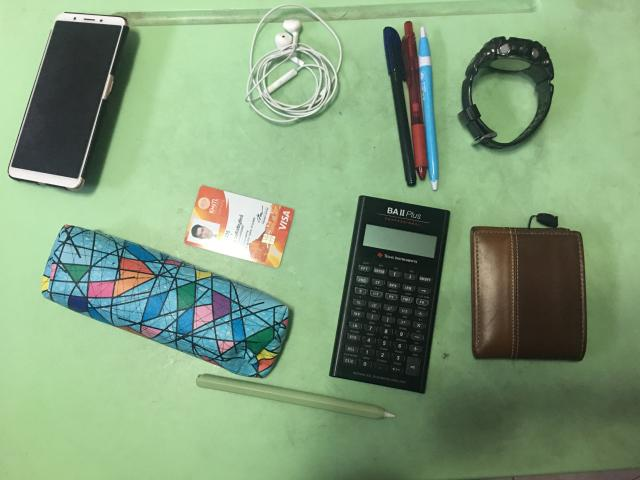Mobile phone: (9, 12, 129, 190)
Pen: (382, 18, 448, 192)
Wallet: (471, 226, 586, 361)
Watch: (460, 36, 554, 149)
wire: (246, 4, 342, 122)
